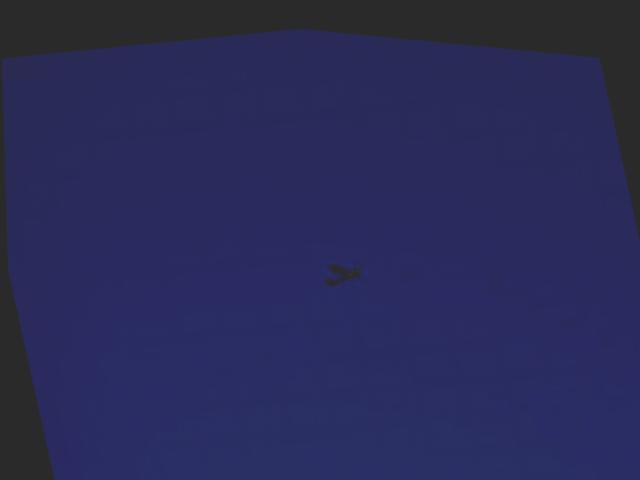iha: (316, 239, 372, 288)
